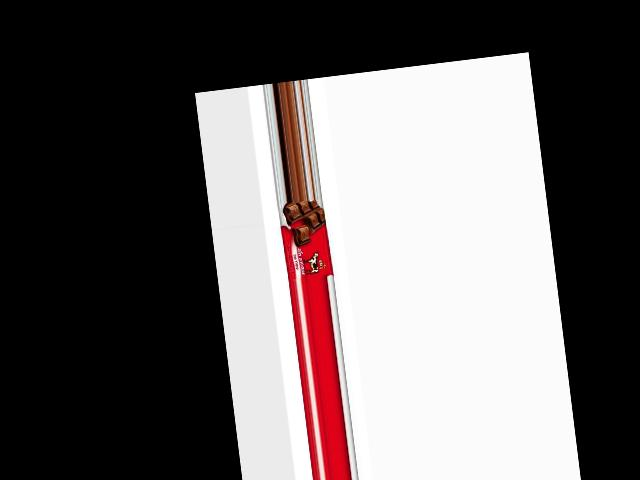chocolate: (278, 199, 333, 282)
